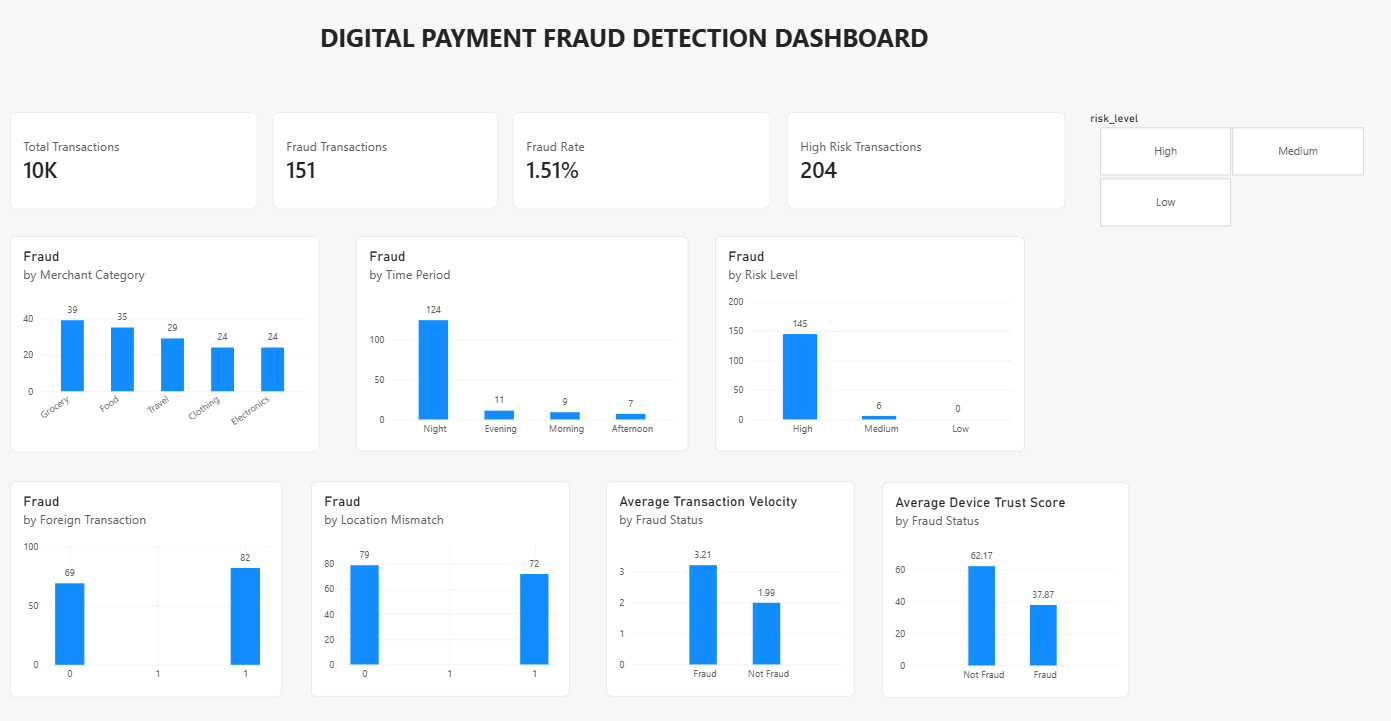

The page's visual inventory and layout, read from the dashboard file:
{"tool":"powerbi","page":{"name":"Page 1","canvas":[1920,1080],"ordinal":0},"visuals":[{"type":"cardVisual","fields":{"Data":["digital_payment_fraud_dw dim_merchant.Fraud Transactions"]},"box":[422.3,145.7,291.2,125.3],"z":0},{"type":"cardVisual","fields":{"Data":["digital_payment_fraud_dw dim_merchant.Fraud Rate"]},"box":[732.6,145.7,333.5,125.3],"z":1000},{"type":"cardVisual","fields":{"Data":["digital_payment_fraud_dw dim_merchant.High Risk Transactions"]},"box":[1086.3,145.7,360.6,125.3],"z":2000},{"type":"clusteredColumnChart","fields":{"Category":["digital_payment_fraud_dw dim_merchant.merchant_category"],"Y":["Sum(digital_payment_fraud_dw fact_transaction.is_fraud)"]},"box":[81.6,307,400.3,279.8],"z":3000},{"type":"clusteredColumnChart","fields":{"Category":["digital_payment_fraud_dw dim_time.time_period"],"Y":["Sum(digital_payment_fraud_dw fact_transaction.is_fraud)"]},"box":[528.6,307,430.1,279.4],"z":4000},{"type":"clusteredColumnChart","fields":{"Category":["digital_payment_fraud_dw dim_risk.risk_level"],"Y":["Sum(digital_payment_fraud_dw fact_transaction.is_fraud)"]},"box":[993,307,401.3,279.4],"z":5000},{"type":"clusteredColumnChart","fields":{"Category":["digital_payment_fraud_dw fact_transaction.foreign_transaction"],"Y":["Sum(digital_payment_fraud_dw fact_transaction.is_fraud)"]},"box":[81.6,624.1,351.7,279.8],"z":6000},{"type":"clusteredColumnChart","fields":{"Category":["digital_payment_fraud_dw fact_transaction.location_mismatch"],"Y":["Sum(digital_payment_fraud_dw fact_transaction.is_fraud)"]},"box":[470.9,624.1,335.2,279.4],"z":7000},{"type":"clusteredColumnChart","fields":{"Category":["digital_payment_fraud_dw fact_transaction.Fraud Status"],"Y":["Avg(digital_payment_fraud_dw fact_transaction.device_trust_score)"]},"box":[1209.3,625.4,320,279.4],"z":8000},{"type":"clusteredColumnChart","fields":{"Category":["digital_payment_fraud_dw fact_transaction.Fraud Status"],"Y":["Avg(digital_payment_fraud_dw fact_transaction.velocity_last_24h)"]},"box":[852.7,624.1,321.7,279.4],"z":9000},{"type":"textbox","box":[481.9,27.2,851.2,71.9],"z":10000},{"type":"cardVisual","fields":{"Data":["Count(digital_payment_fraud_dw fact_transaction.transaction_id)"]},"box":[81.6,145.7,320.6,126.3],"z":11000},{"type":"slicer","fields":{"Values":["digital_payment_fraud_dw dim_risk.risk_level"]},"box":[1471.1,145.7,380.9,149.6],"z":12000}]}

Visuals, with their boxes on the page's 1920x1080 design canvas (x1, y1, x2, y2). These are canvas units, not pixel positions in the 1391x721 screenshot, which may show the page scaled, cropped or inside an application window:
cardVisual - digital_payment_fraud_dw dim_merchant.Fraud Transactions: <bbox>422, 146, 714, 271</bbox>
cardVisual - digital_payment_fraud_dw dim_merchant.Fraud Rate: <bbox>733, 146, 1066, 271</bbox>
cardVisual - digital_payment_fraud_dw dim_merchant.High Risk Transactions: <bbox>1086, 146, 1447, 271</bbox>
clusteredColumnChart - digital_payment_fraud_dw dim_merchant.merchant_category x Sum(digital_payment_fraud_dw fact_transaction.is_fraud): <bbox>82, 307, 482, 587</bbox>
clusteredColumnChart - digital_payment_fraud_dw dim_time.time_period x Sum(digital_payment_fraud_dw fact_transaction.is_fraud): <bbox>529, 307, 959, 586</bbox>
clusteredColumnChart - digital_payment_fraud_dw dim_risk.risk_level x Sum(digital_payment_fraud_dw fact_transaction.is_fraud): <bbox>993, 307, 1394, 586</bbox>
clusteredColumnChart - digital_payment_fraud_dw fact_transaction.foreign_transaction x Sum(digital_payment_fraud_dw fact_transaction.is_fraud): <bbox>82, 624, 433, 904</bbox>
clusteredColumnChart - digital_payment_fraud_dw fact_transaction.location_mismatch x Sum(digital_payment_fraud_dw fact_transaction.is_fraud): <bbox>471, 624, 806, 904</bbox>
clusteredColumnChart - digital_payment_fraud_dw fact_transaction.Fraud Status x Avg(digital_payment_fraud_dw fact_transaction.device_trust_score): <bbox>1209, 625, 1529, 905</bbox>
clusteredColumnChart - digital_payment_fraud_dw fact_transaction.Fraud Status x Avg(digital_payment_fraud_dw fact_transaction.velocity_last_24h): <bbox>853, 624, 1174, 904</bbox>
textbox: <bbox>482, 27, 1333, 99</bbox>
cardVisual - Count(digital_payment_fraud_dw fact_transaction.transaction_id): <bbox>82, 146, 402, 272</bbox>
slicer - digital_payment_fraud_dw dim_risk.risk_level: <bbox>1471, 146, 1852, 295</bbox>
